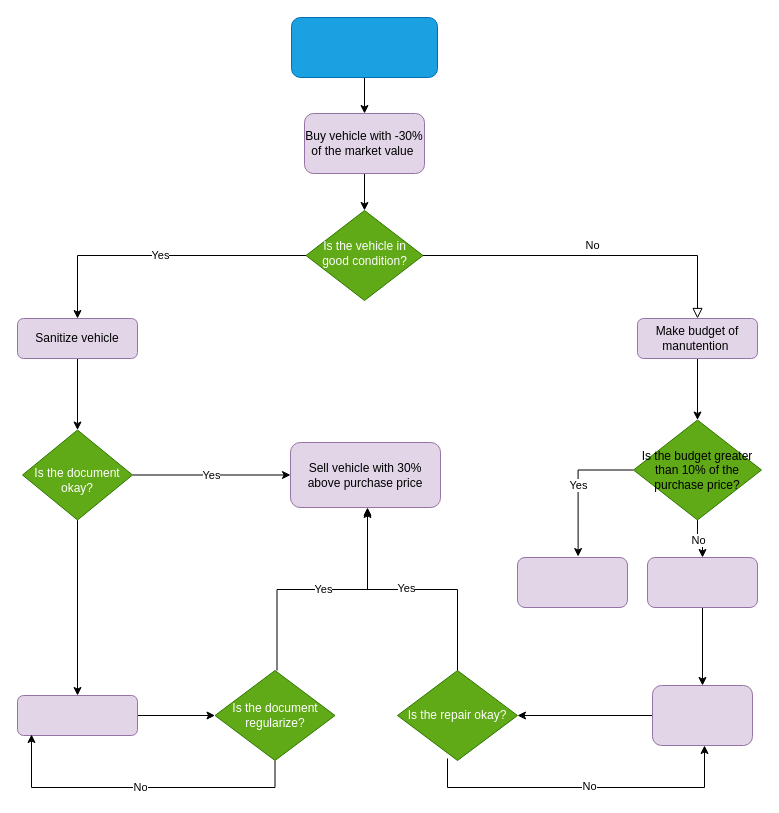
The diagram is 779 pixels wide and 813 high, and some of its shapes have lost their labels. The box of each missing label's shape, as (x1, y1, x2, y2) in pixels:
Buy car of resale: (290, 16, 438, 78)
Buy vehicle: (646, 556, 758, 608)
Do repair: (652, 684, 752, 746)
Not buy vehicle: (516, 556, 628, 608)
Regularize documents: (16, 694, 138, 736)
